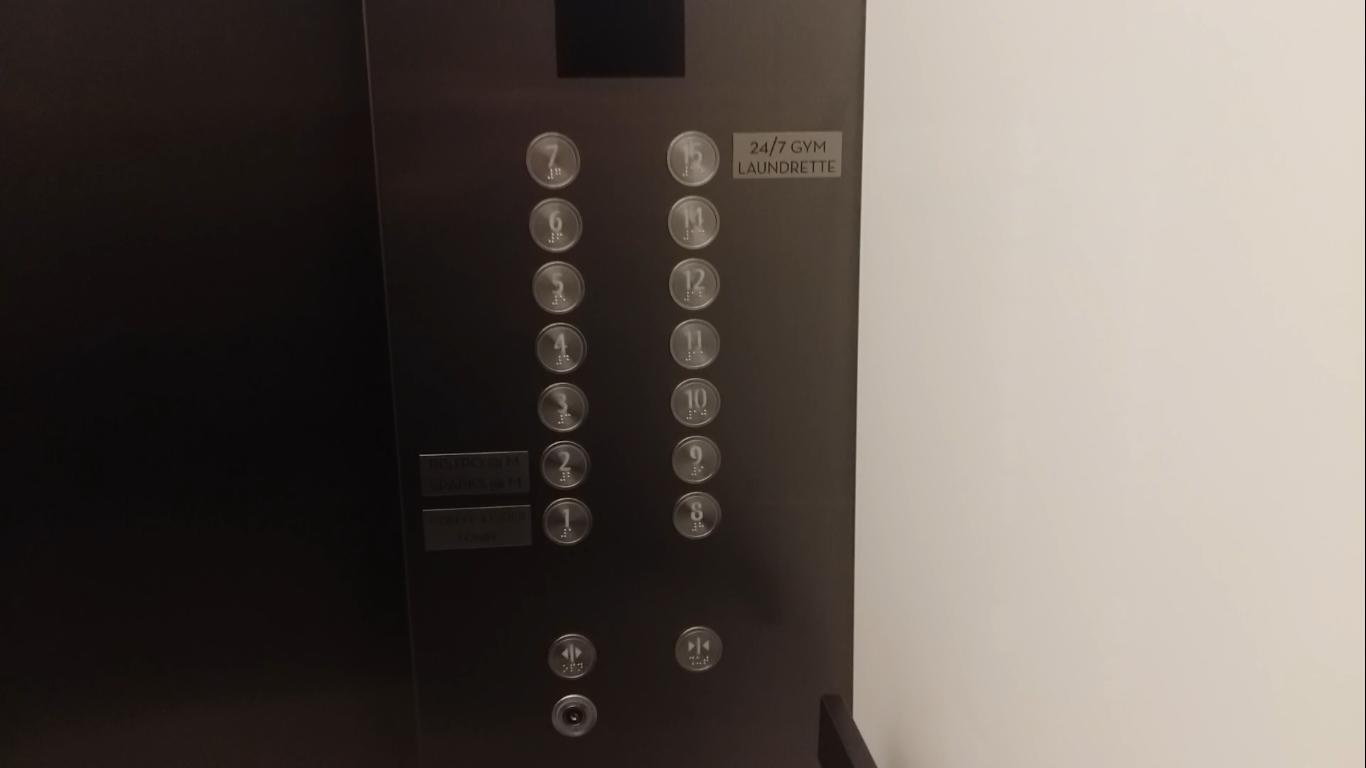1: (541, 495, 593, 546)
10: (668, 377, 723, 427)
11: (669, 317, 721, 371)
12: (668, 258, 720, 312)
14: (668, 196, 720, 250)
15: (664, 127, 720, 188)
2: (538, 437, 591, 490)
3: (536, 379, 589, 434)
4: (534, 320, 586, 374)
5: (531, 257, 585, 314)
6: (530, 197, 582, 251)
7: (526, 131, 580, 188)
8: (671, 489, 724, 540)
9: (671, 435, 724, 485)
close: (675, 625, 724, 673)
open: (547, 632, 596, 680)
